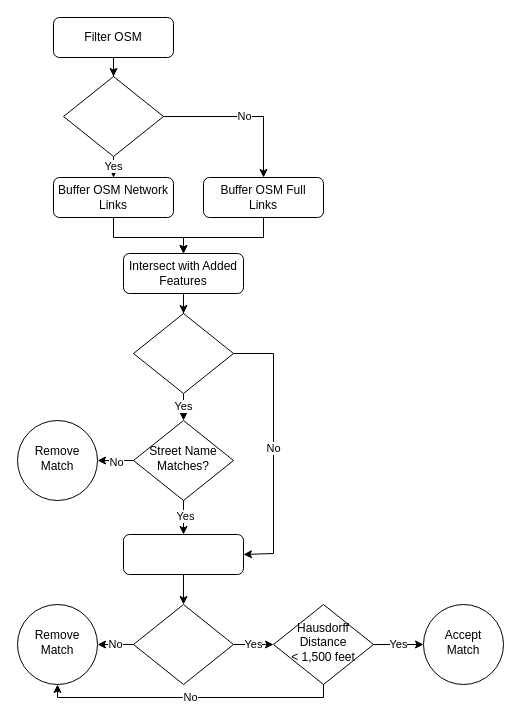
The diagram is 521 pixels wide and 723 high, and some of its shapes have lost their labels. Here are the shapes that lost their labels. From the top down, the centre of each, then its label:
At (113,116): "High Resolution?".
At (183,353): "Street Name Field?".
At (183,554): "Calculate Hausdorff Distance".
At (183,644): "Min Hausdorff Distance?".
